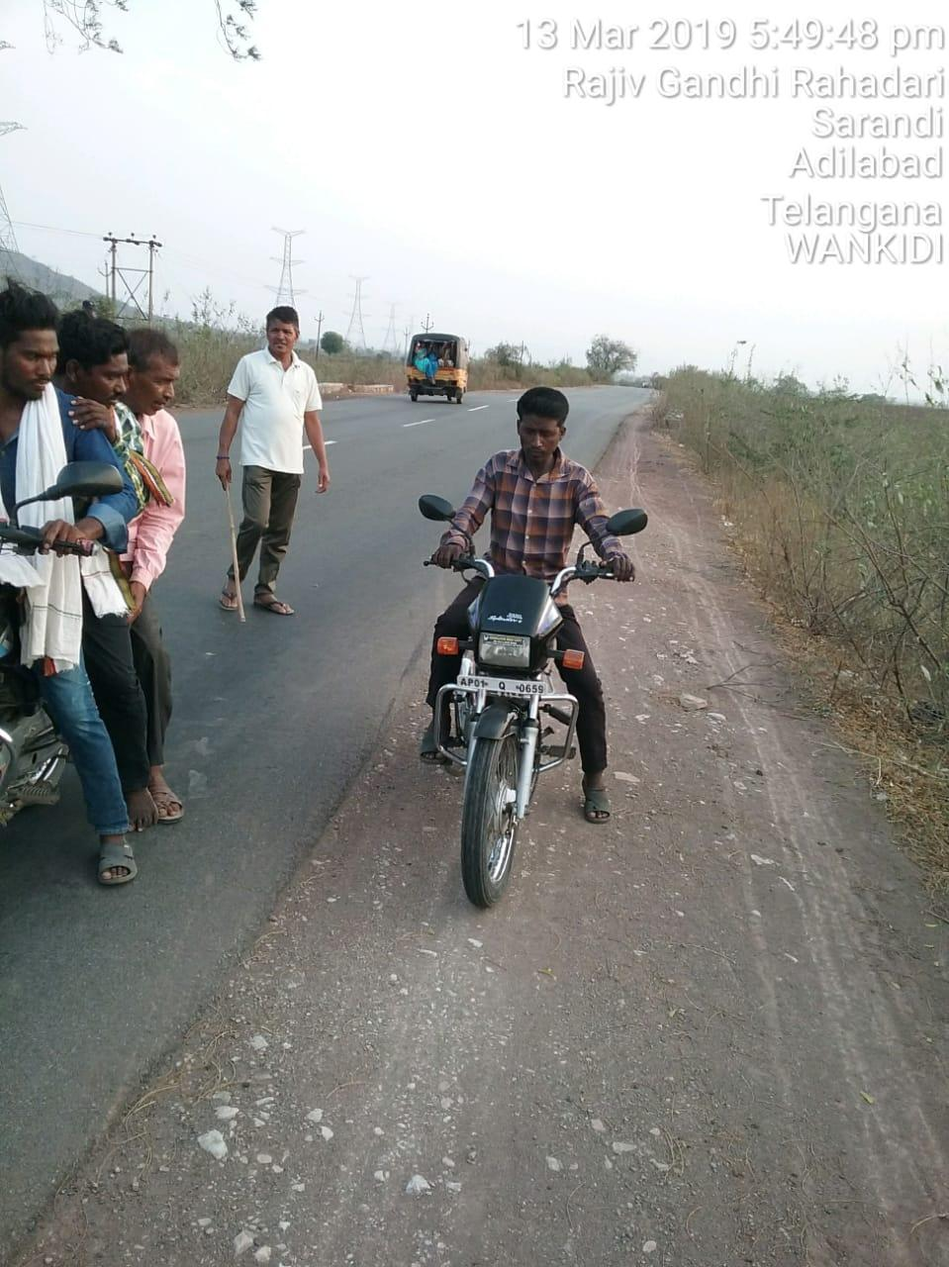plate: (451, 673, 550, 701)
